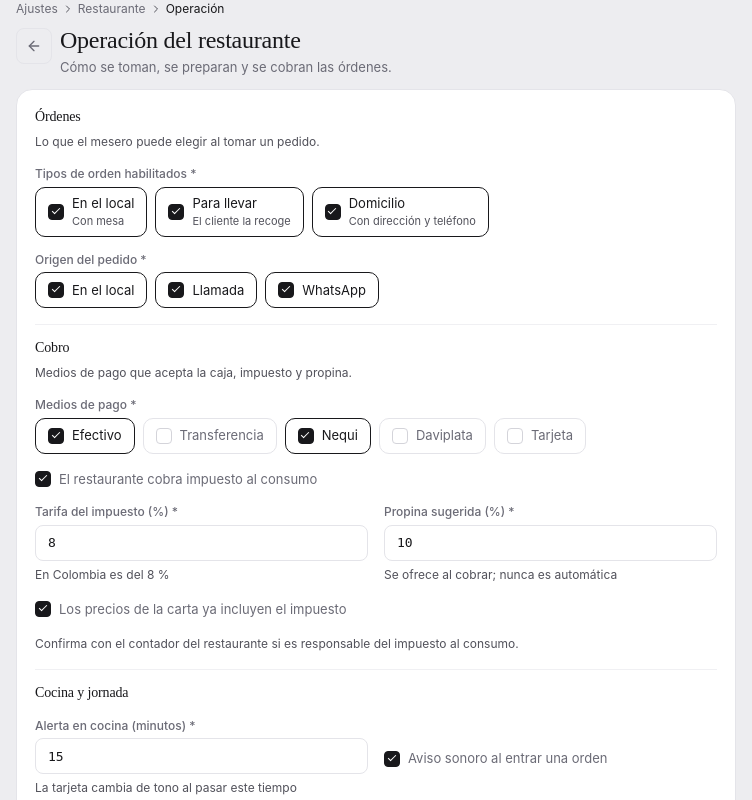
Test: Ajustes del restaurante › sin ningún medio de pago no deja guardar y dice por qué
// El formulario se llena con lo guardado DESPUÉS del primer pintado.
Click the checkbox labelled "Efectivo": (56, 436) [48, 428, 64, 444]
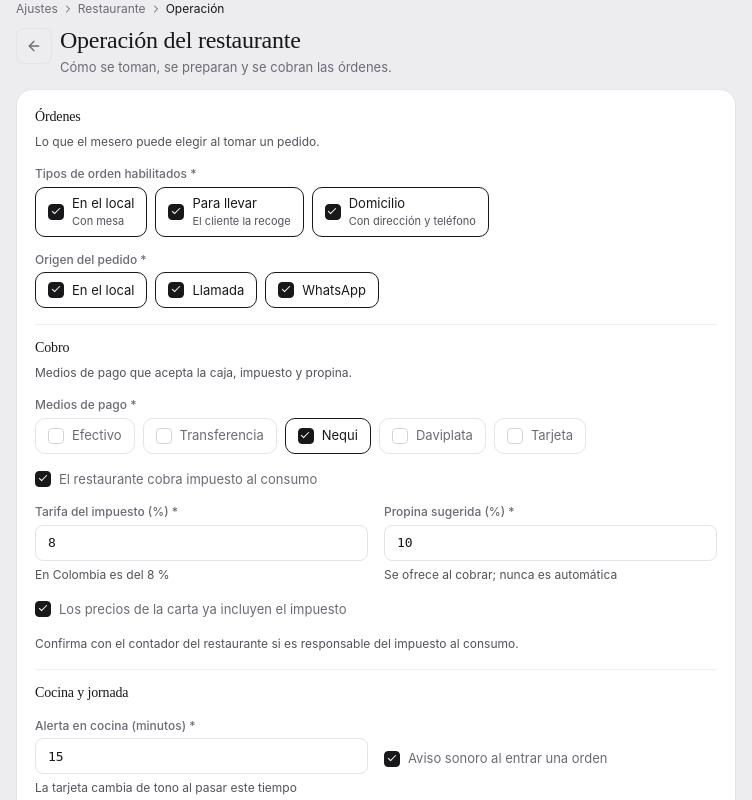
Click the checkbox labelled "Nequi": (306, 436) [298, 428, 314, 444]
(page scrolled)
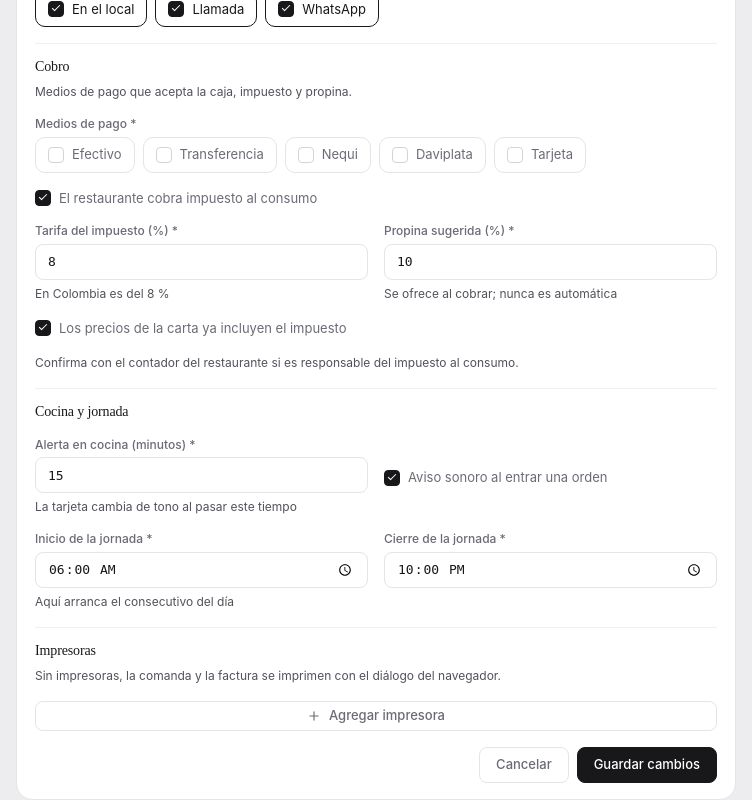
Click the button "Guardar cambios": (647, 765) [577, 747, 717, 783]
(page scrolled)
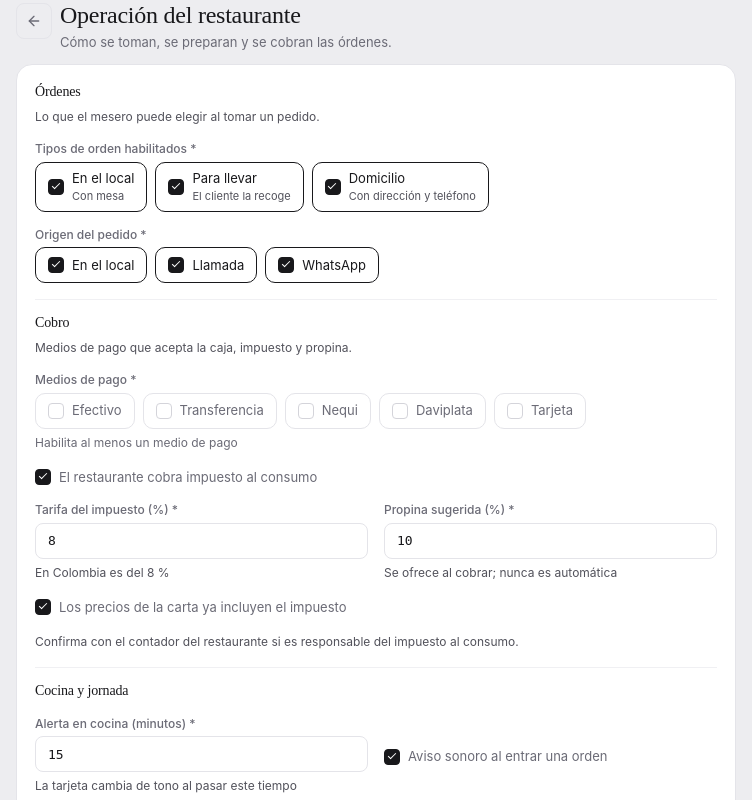
Now the text "Habilita al menos un medio de pago" is shown, box [35, 435, 238, 450]
